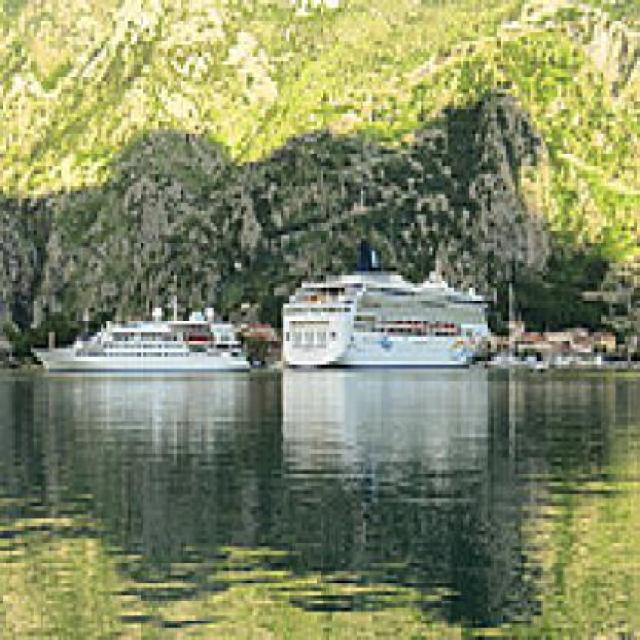cruise: (269, 257, 507, 391), (19, 289, 260, 386)
